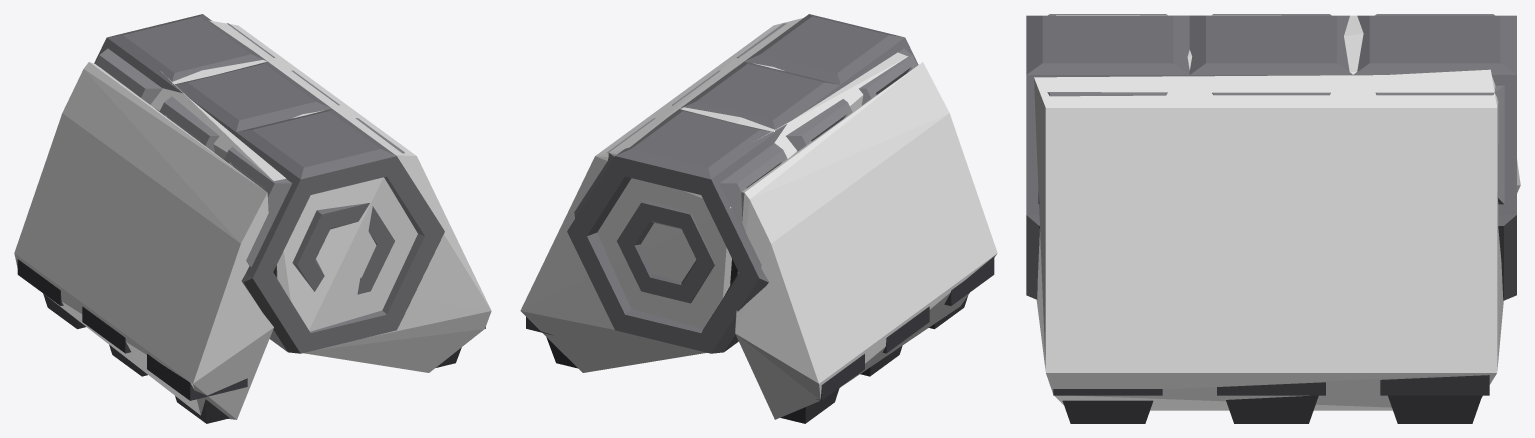
Rendered from SM_Prop_Battery_03.fbx.
The picture shows the model from 3 angles, left to right: view 1: azimuth 30°, elevation 25°; view 2: azimuth 150°, elevation 25°; view 3: azimuth 270°, elevation 25°; orthographic projection. The views are drawn at different scales.
Parts seen in each view (by area): view 1: SM_Prop_Battery_03_ConvexHulls, SM_Prop_Battery_03_LOD0; view 2: SM_Prop_Battery_03_ConvexHulls, SM_Prop_Battery_03_LOD0; view 3: SM_Prop_Battery_03_ConvexHulls, SM_Prop_Battery_03_LOD0.
Part boxes in pixels (bbox=[...]): SM_Prop_Battery_03_ConvexHulls: bbox=[14, 20, 491, 419]; SM_Prop_Battery_03_LOD0: bbox=[17, 14, 485, 423]; SM_Prop_Battery_03_ConvexHulls: bbox=[520, 18, 997, 419]; SM_Prop_Battery_03_LOD0: bbox=[526, 14, 994, 423]; SM_Prop_Battery_03_ConvexHulls: bbox=[1034, 15, 1520, 410]; SM_Prop_Battery_03_LOD0: bbox=[1026, 14, 1516, 423].
Size of the model in its own units: 208 by 183 by 144.
1 material, 1 textured.
